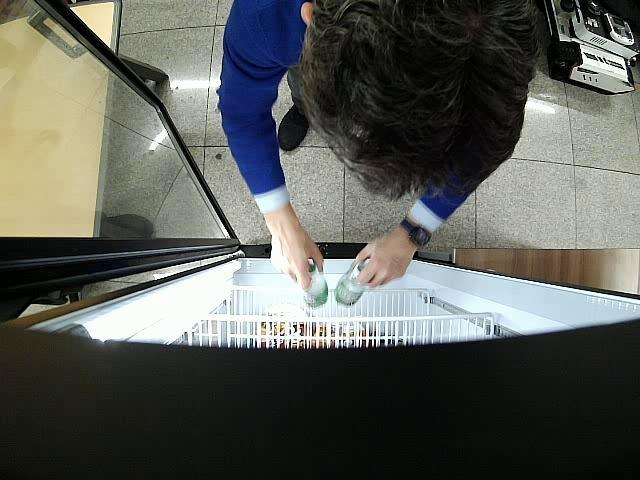18_trevi: (336, 261, 366, 308), (305, 261, 328, 308)
